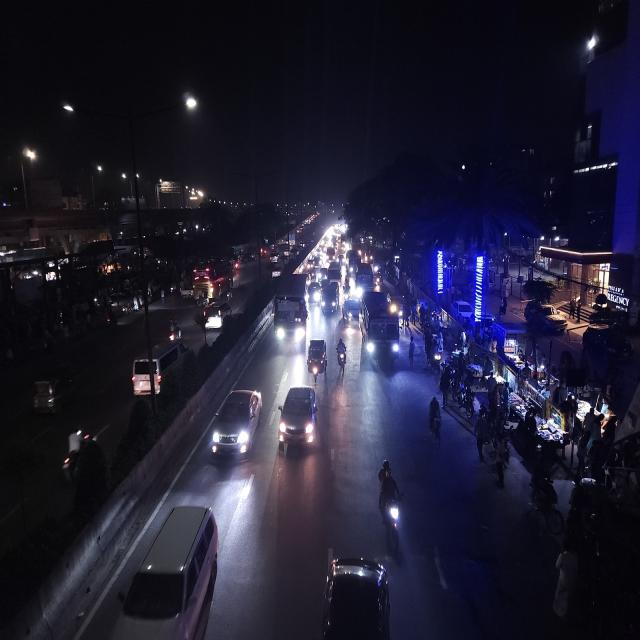bus: (358, 289, 401, 370), (273, 274, 311, 355), (191, 261, 233, 301), (354, 262, 374, 295)
car: (113, 499, 224, 638), (320, 548, 396, 638), (208, 384, 264, 466), (128, 339, 186, 398), (276, 382, 321, 456), (201, 298, 233, 333), (450, 297, 476, 323)
cng: (29, 364, 77, 417), (306, 336, 328, 382), (321, 278, 341, 316), (342, 297, 360, 328)
motorcycle: (375, 458, 407, 553), (60, 426, 97, 488), (334, 336, 348, 375), (166, 317, 183, 343), (343, 273, 351, 293)
pedestrian: (472, 412, 492, 462), (426, 394, 444, 443), (438, 364, 452, 407)
